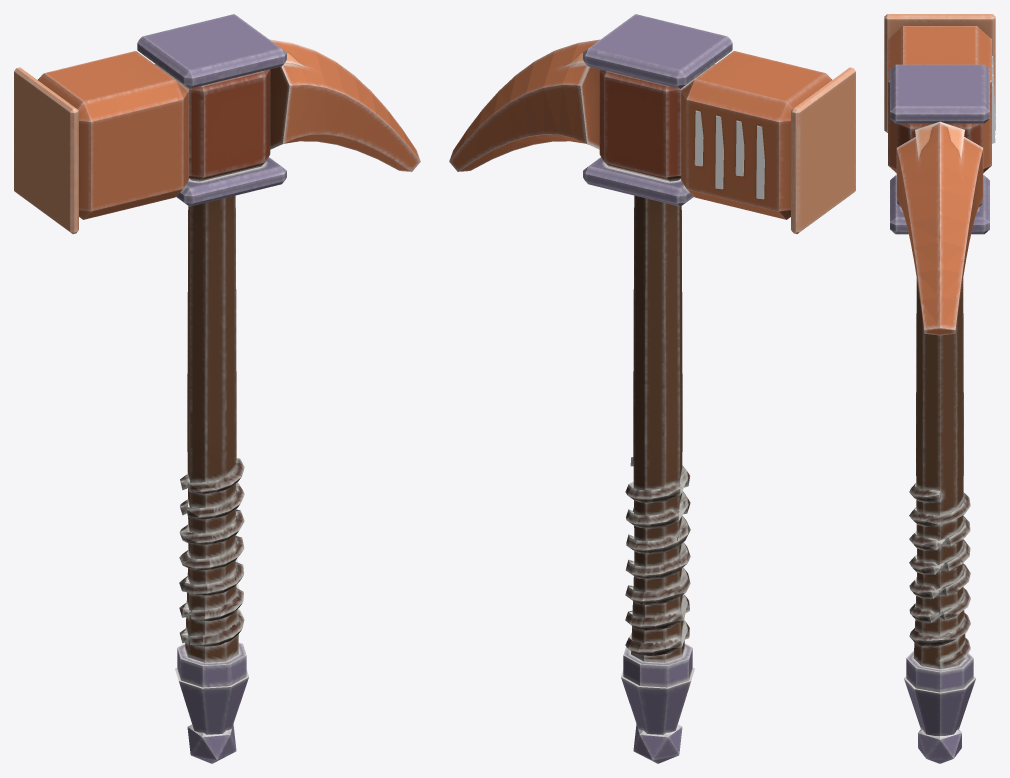
File: KilnPickaxe.glb
3 views of the same model, side by side, from view 1: azimuth 30°, elevation 25°; view 2: azimuth 150°, elevation 25°; view 3: azimuth 270°, elevation 25° (orthographic). The views are drawn at different scales.
Parts seen in each view (by area): view 1: Body__Tex; view 2: Body__Tex, Head__Accent; view 3: Body__Tex, Head__Accent.
Boxes of the visible parts, <box> form: Body__Tex: <box>14,14,420,763</box>; Body__Tex: <box>449,14,855,763</box>; Head__Accent: <box>694,110,764,199</box>; Body__Tex: <box>884,14,995,763</box>; Head__Accent: <box>992,56,995,143</box>.
Size of the model in its own units: 2.2 by 4.04 by 0.6.
Materials: 1 (1 with a texture image).
